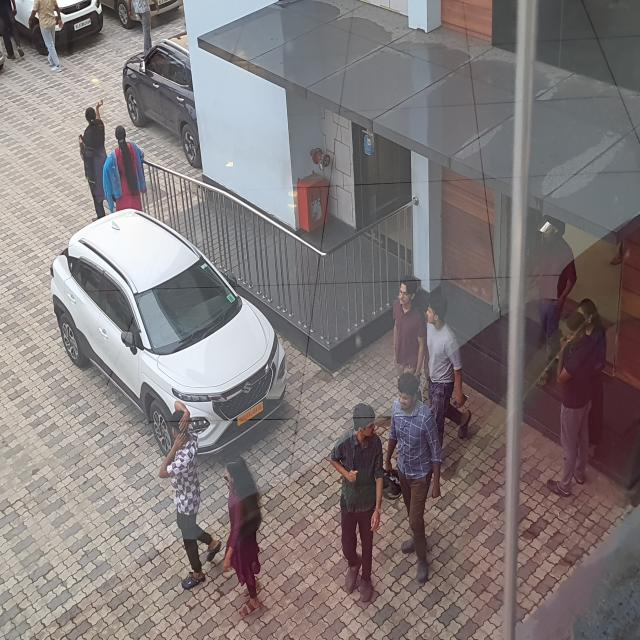humans: (384, 369, 446, 585), (156, 396, 220, 592), (330, 401, 385, 605), (542, 305, 591, 499), (426, 292, 472, 469), (222, 448, 266, 622), (100, 122, 160, 210), (388, 278, 426, 382), (77, 98, 107, 225)
